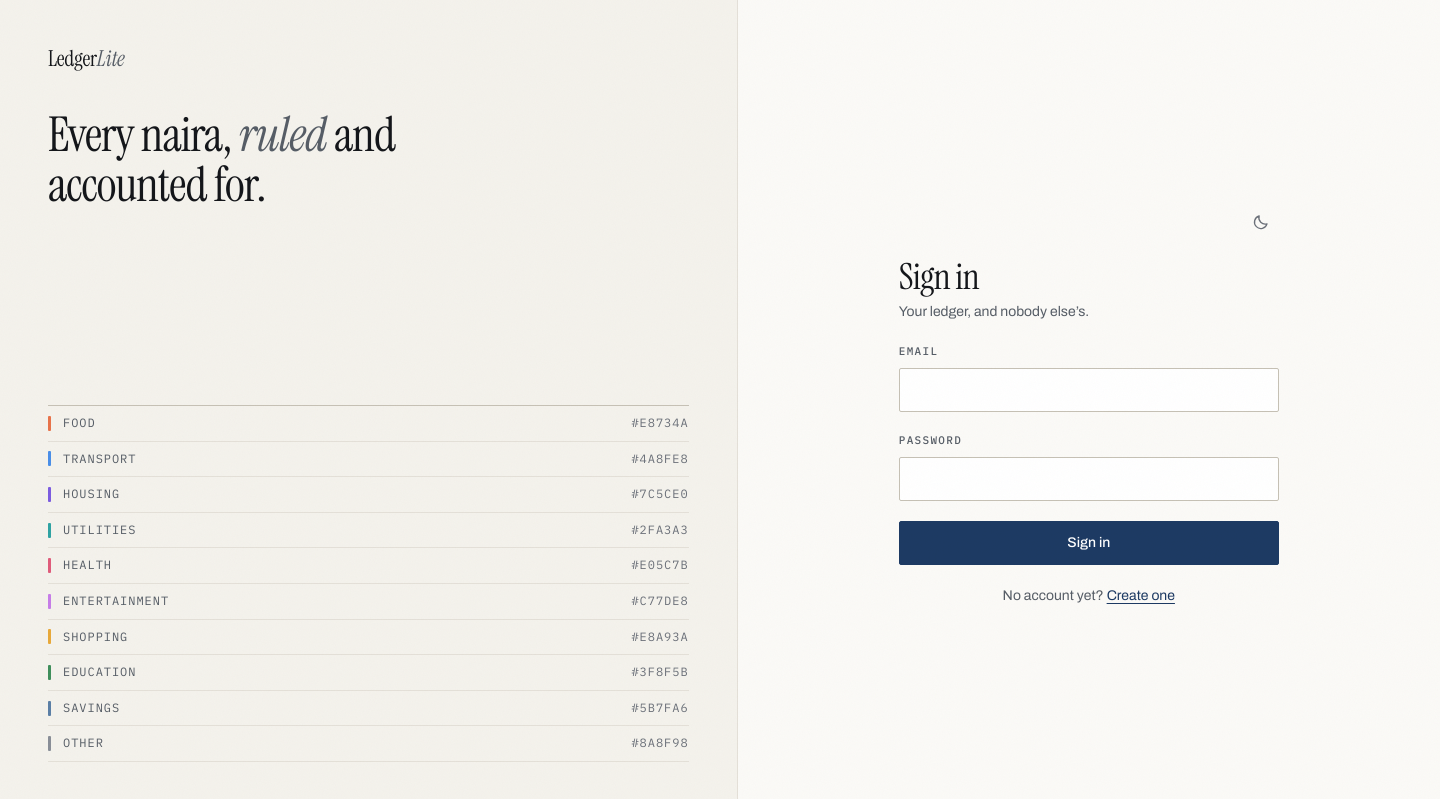
Test: signing in and out › carries a deep link through the sign-in round trip
This screenshot has width=1440, height=799.
Expected: the heading "Sign in" is shown, [899,253,979,300]
Step 1. Type "demo@ledgerlite.app" into the field labelled "Email" → point(1089, 390), box [899,368,1279,412]
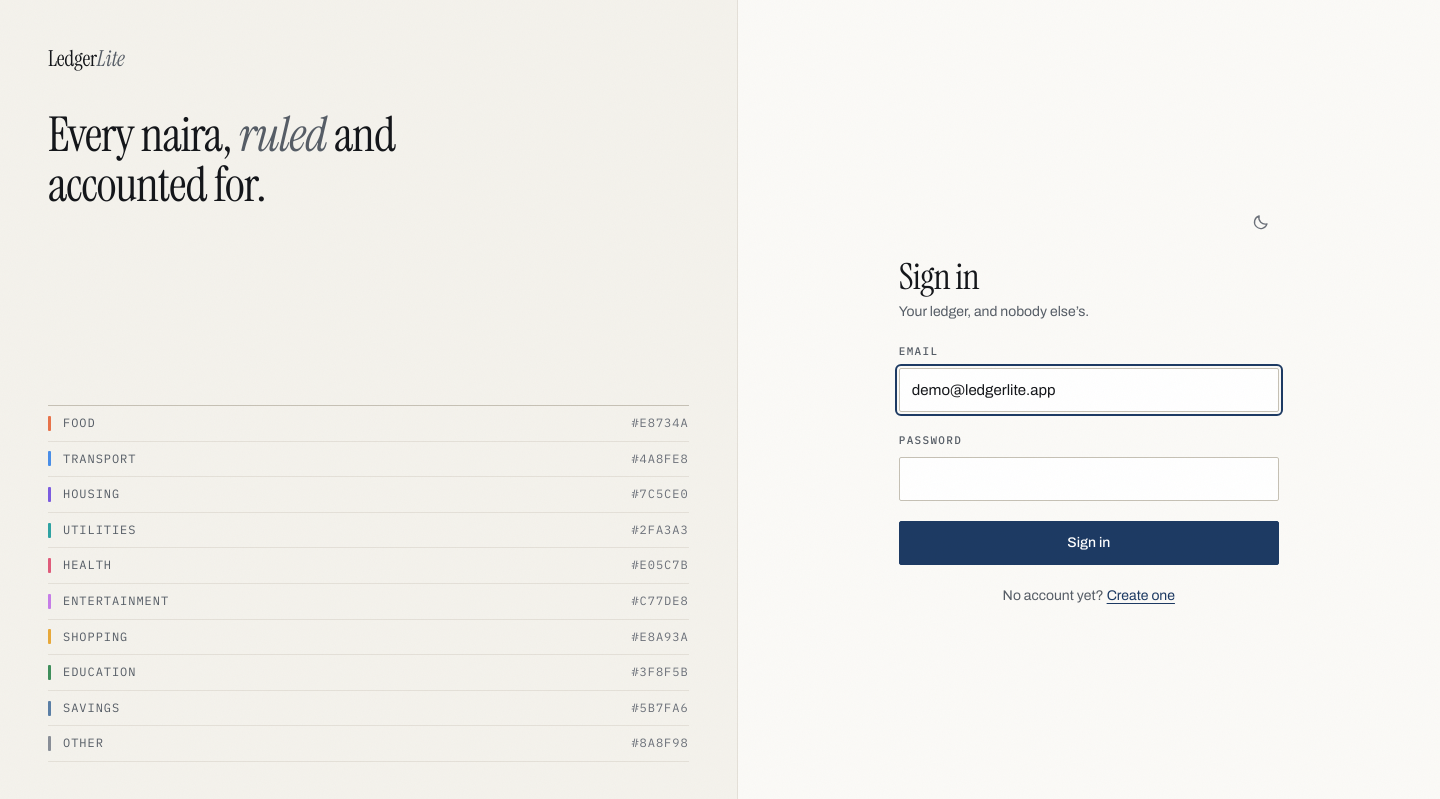
Step 2. Type "demo1234" into the password field labelled "Password" → point(1089, 479), box [899,457,1279,501]
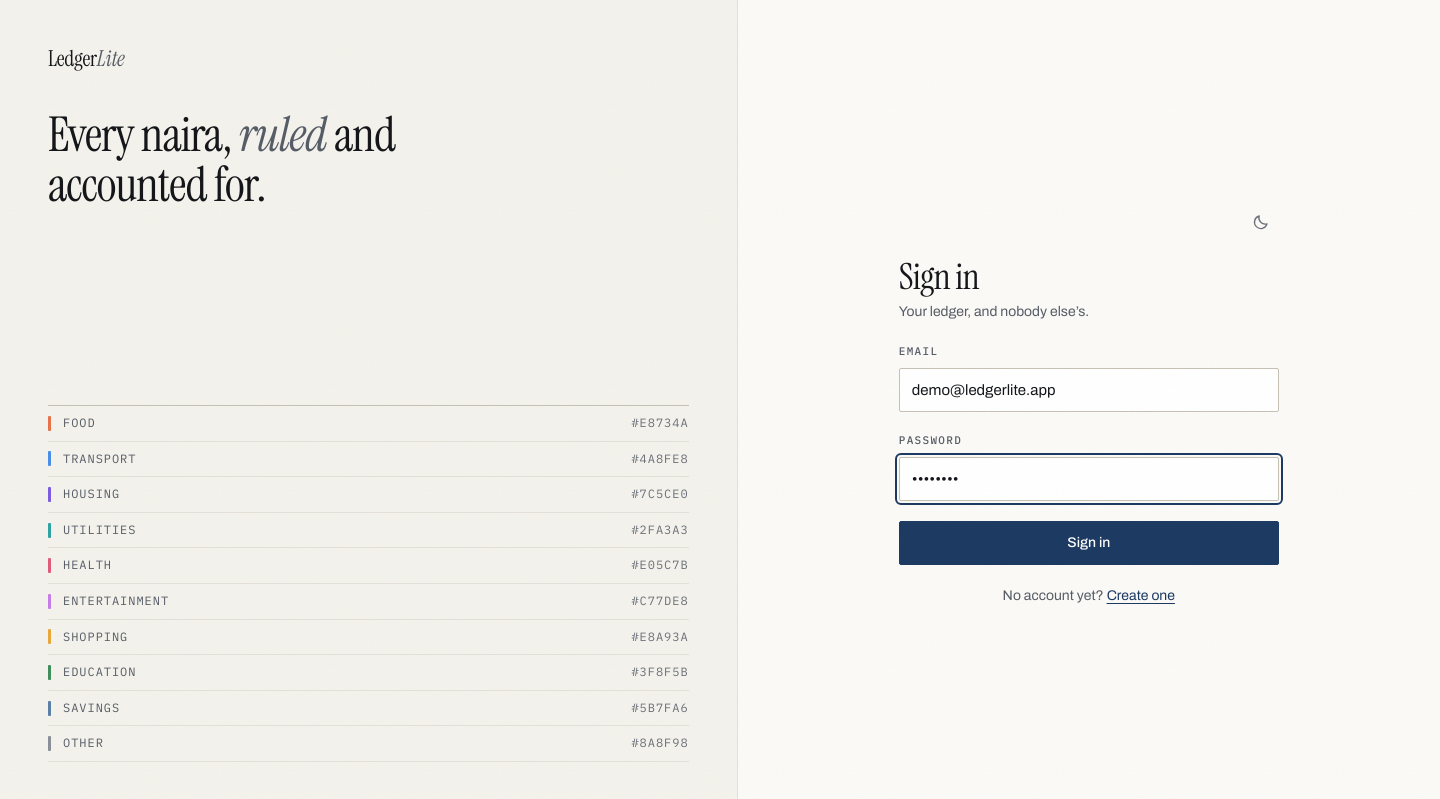
Step 3. Click the button "Sign in" → point(1089, 543), box [899,521,1279,565]
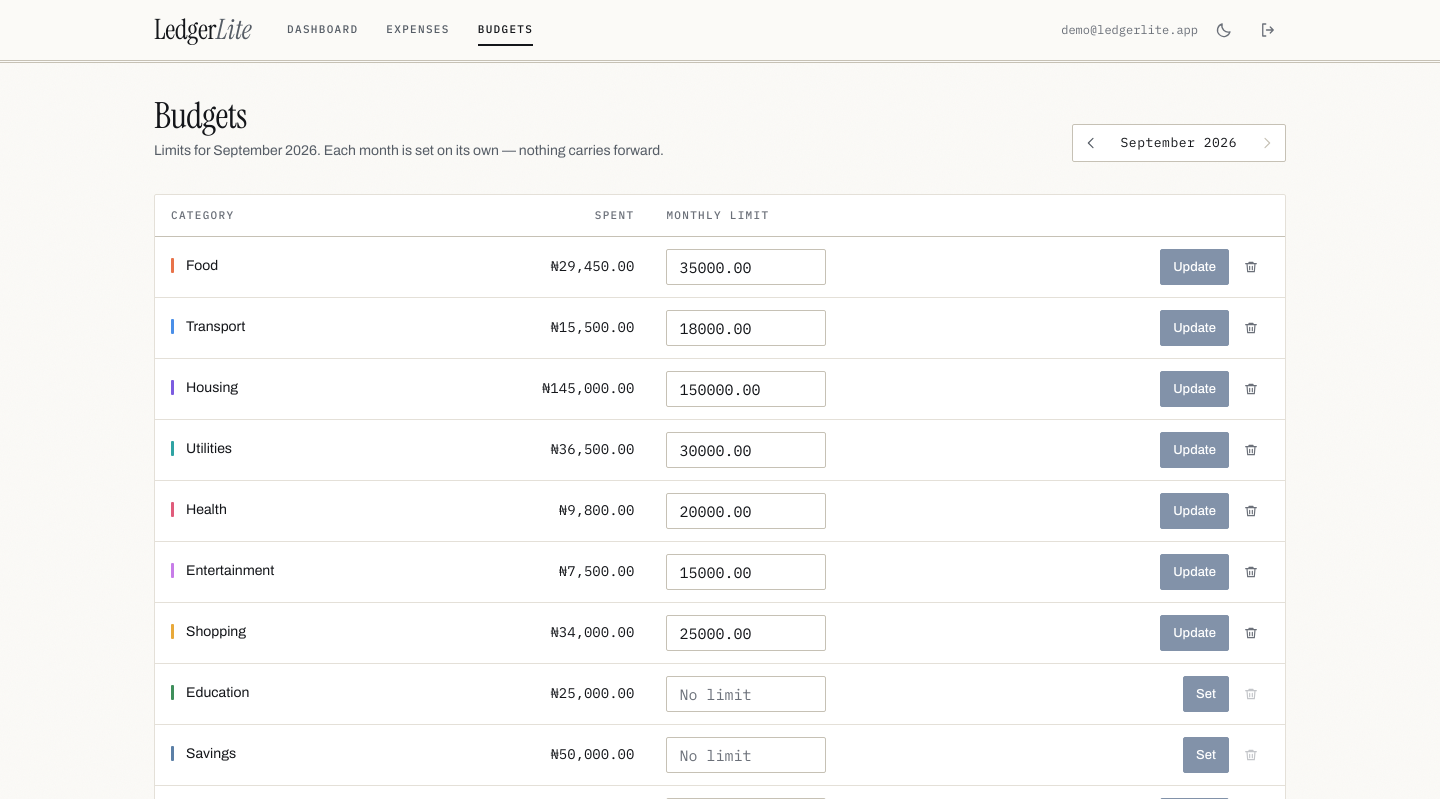
Now the heading "Budgets" is shown, box [154,92,247,139]
